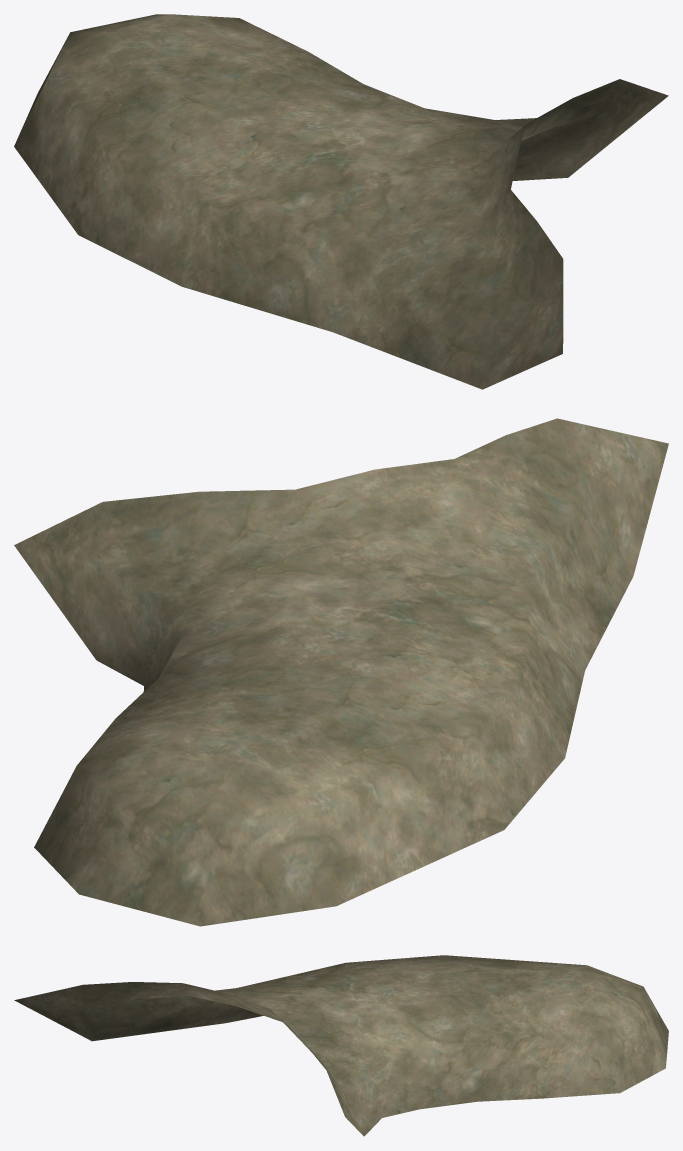
File: EKH_CAVERNS_PS_CA_ROOF9848473.fbx
The picture shows the model from 3 angles, top to bottom: view 1: azimuth 30°, elevation 25°; view 2: azimuth 150°, elevation 25°; view 3: azimuth 270°, elevation 25°; orthographic projection. The views are drawn at different scales.
Visible parts, largest first — view 1: EKH_CAVERNS_PS_CA_ROOF9848473; view 2: EKH_CAVERNS_PS_CA_ROOF9848473; view 3: EKH_CAVERNS_PS_CA_ROOF9848473.
Part boxes in pixels (x1,y1,x2,y2): EKH_CAVERNS_PS_CA_ROOF9848473: (14, 14, 668, 389); EKH_CAVERNS_PS_CA_ROOF9848473: (14, 418, 668, 926); EKH_CAVERNS_PS_CA_ROOF9848473: (14, 955, 668, 1136).
Size of the model in its own units: 72838 by 18112 by 115765.
Materials: 1 (1 with a texture image).
